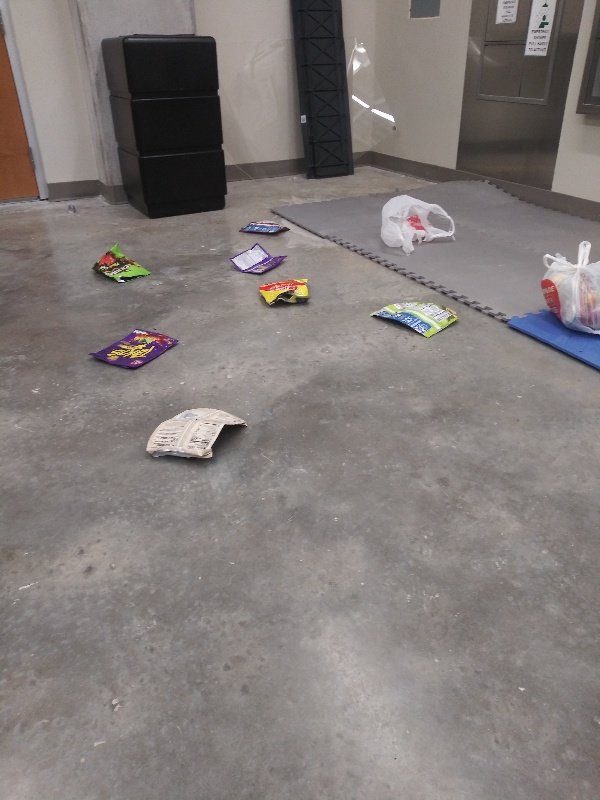bag: (141, 407, 250, 463), (85, 325, 183, 373), (366, 297, 465, 339), (87, 240, 156, 285), (252, 273, 315, 312), (221, 240, 287, 277), (237, 213, 294, 239)
